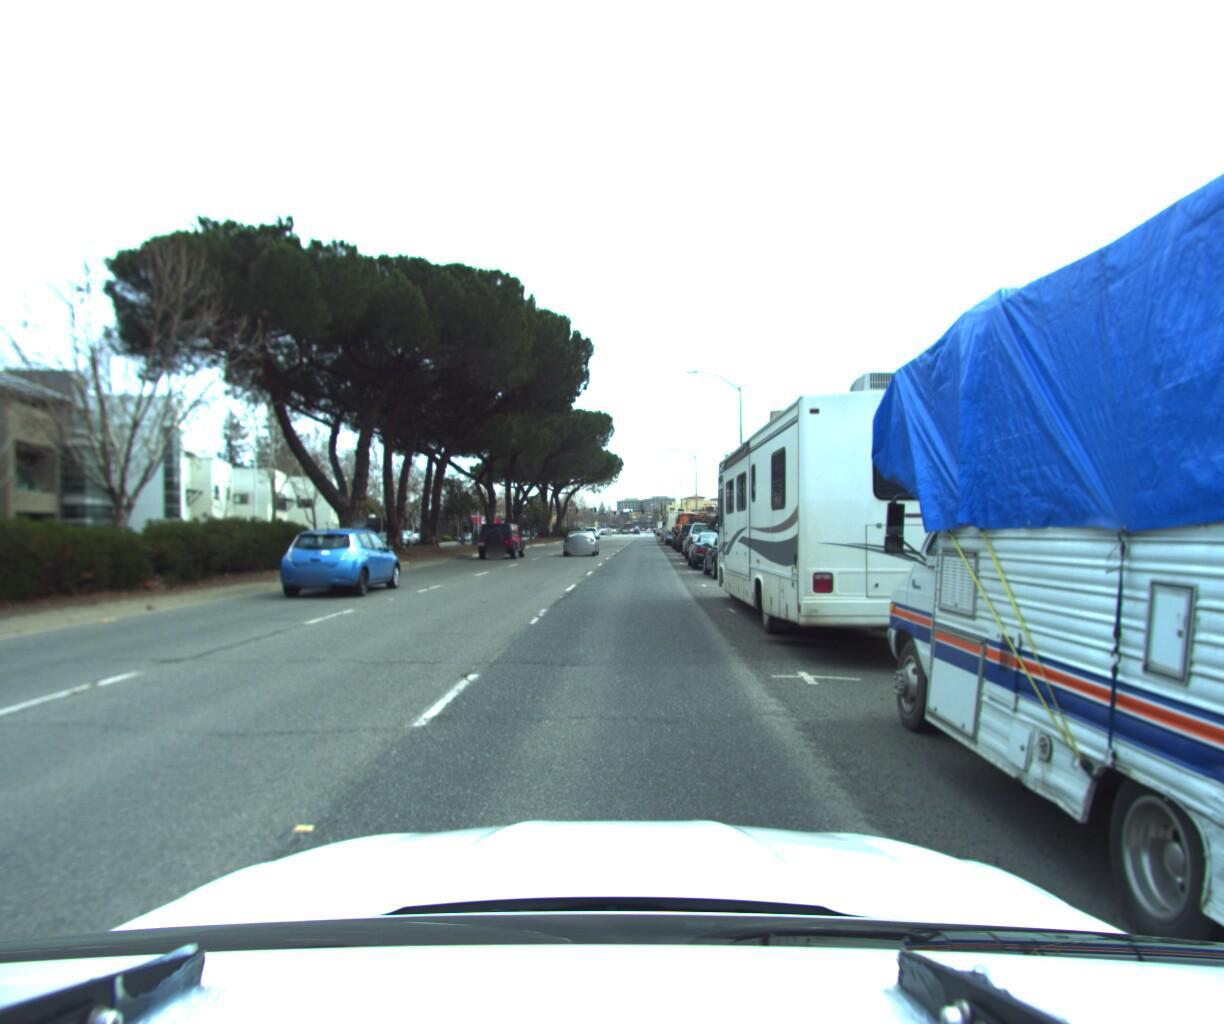car: (276, 524, 408, 603), (701, 527, 775, 580), (683, 526, 743, 570), (685, 513, 735, 562), (474, 519, 525, 559), (673, 509, 706, 549), (558, 525, 596, 555), (675, 519, 710, 551)
other_vehicle: (850, 0, 1224, 1024), (708, 340, 1056, 679), (663, 506, 697, 544)
